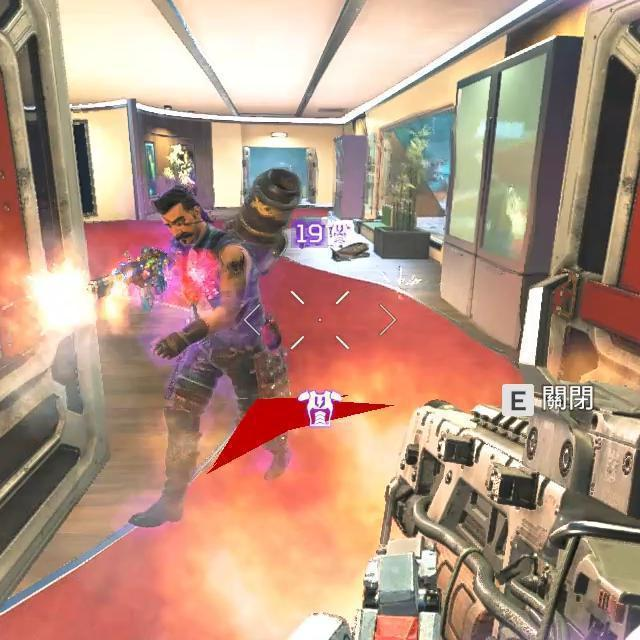avatar: (126, 167, 304, 530)
object: (17, 251, 104, 349), (175, 249, 219, 302)
